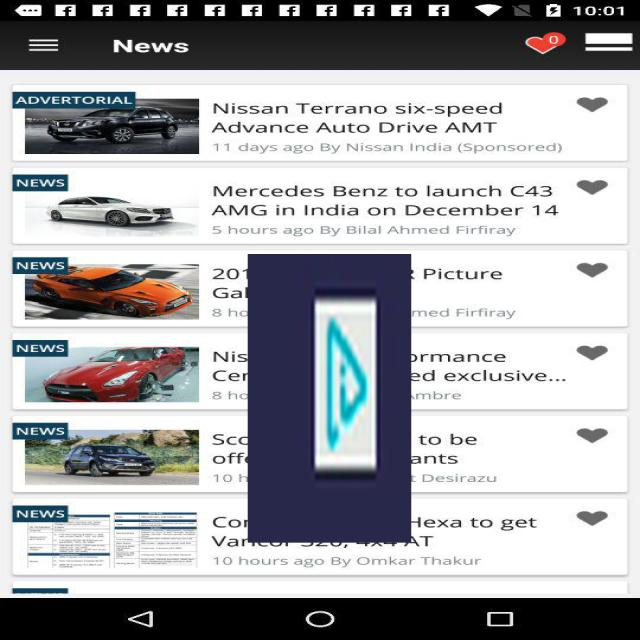sneaking: (248, 254, 411, 543)
